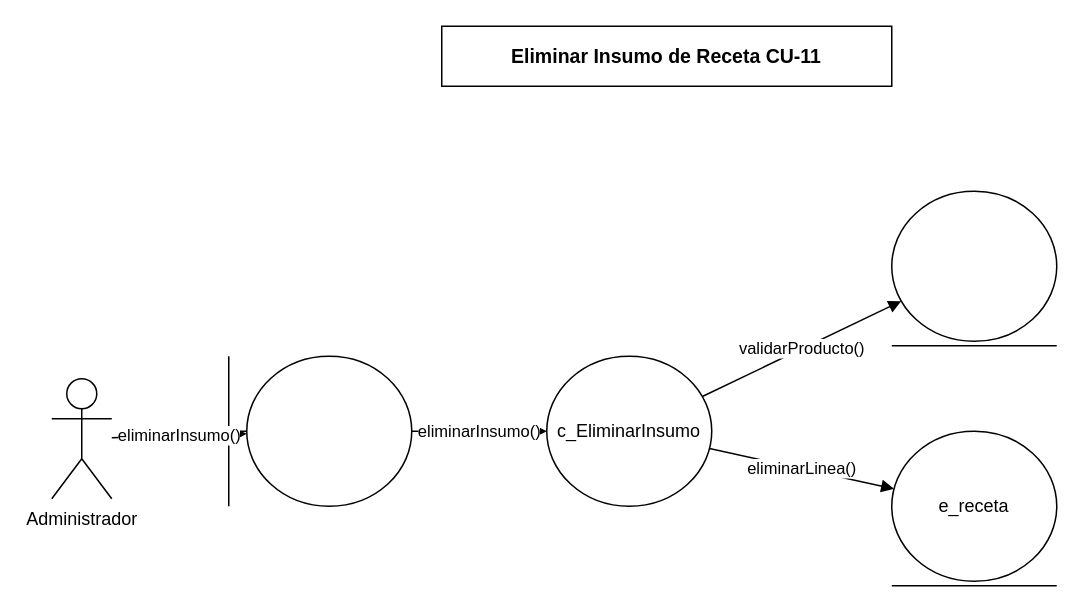
Some shapes in this 1085 by 614 pixel diagram are drawn without their labels. Here are the shapes that lost their labels. From the top down, the box of each, then its label:
(890, 190, 1057, 341): e_producto
(245, 355, 412, 506): i_EliminarInsumo
